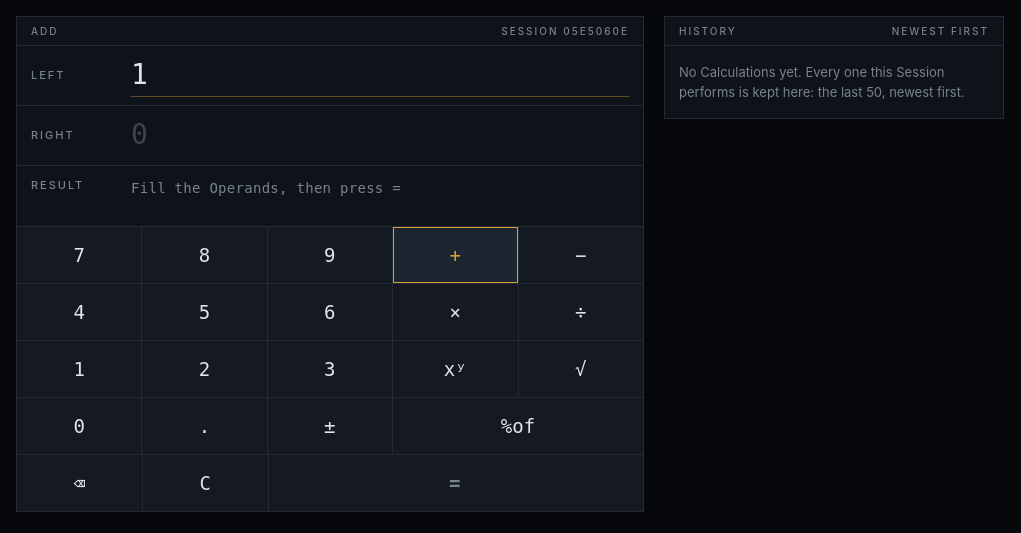
the keypad owns the keyboard, except where something else already does
This screenshot has width=1021, height=533.
Press 7 in the field with test id "operand-left", box [131,54,629,97]
Click the field with test id "operand-right" at (380, 136), box [131,114,629,157]
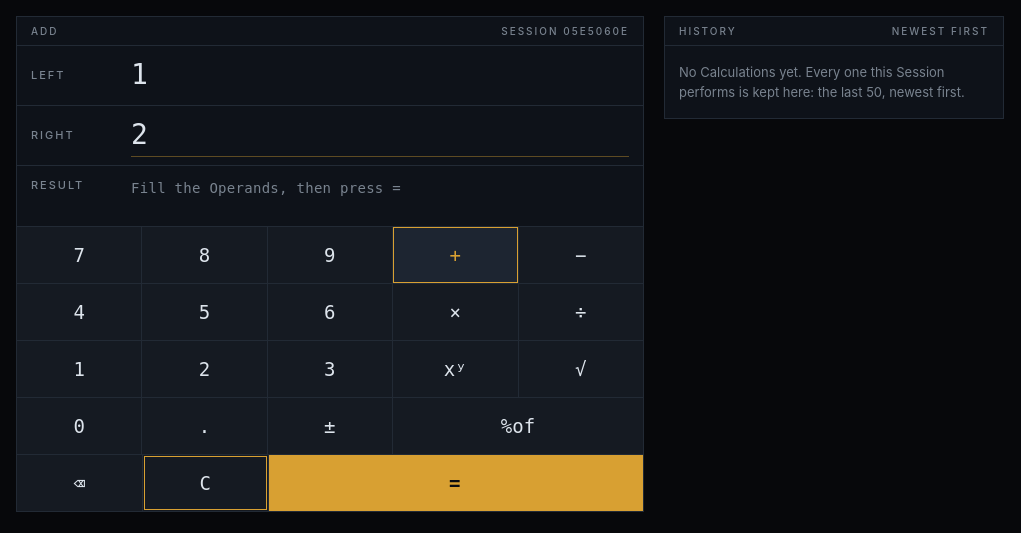
Expected: the field with test id "operand-right" holds "2", [131,114,629,157]
Press Enter in the button with test id "key-clear", box [143,455,268,511]
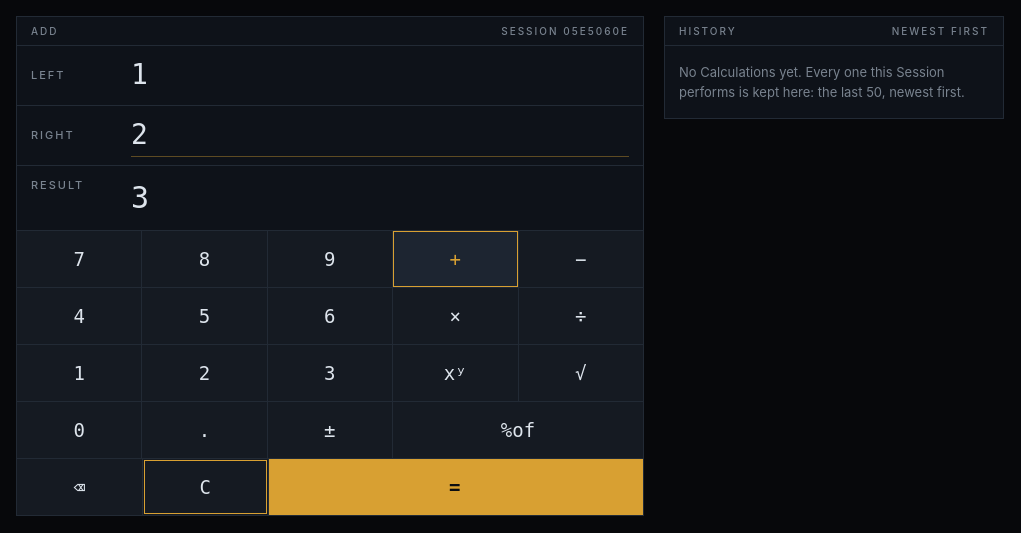
Expected: the field with test id "operand-left" holds "1", [131,54,629,97]
Expected: the text with test id "result-value" reads "3", [131,180,149,215]
